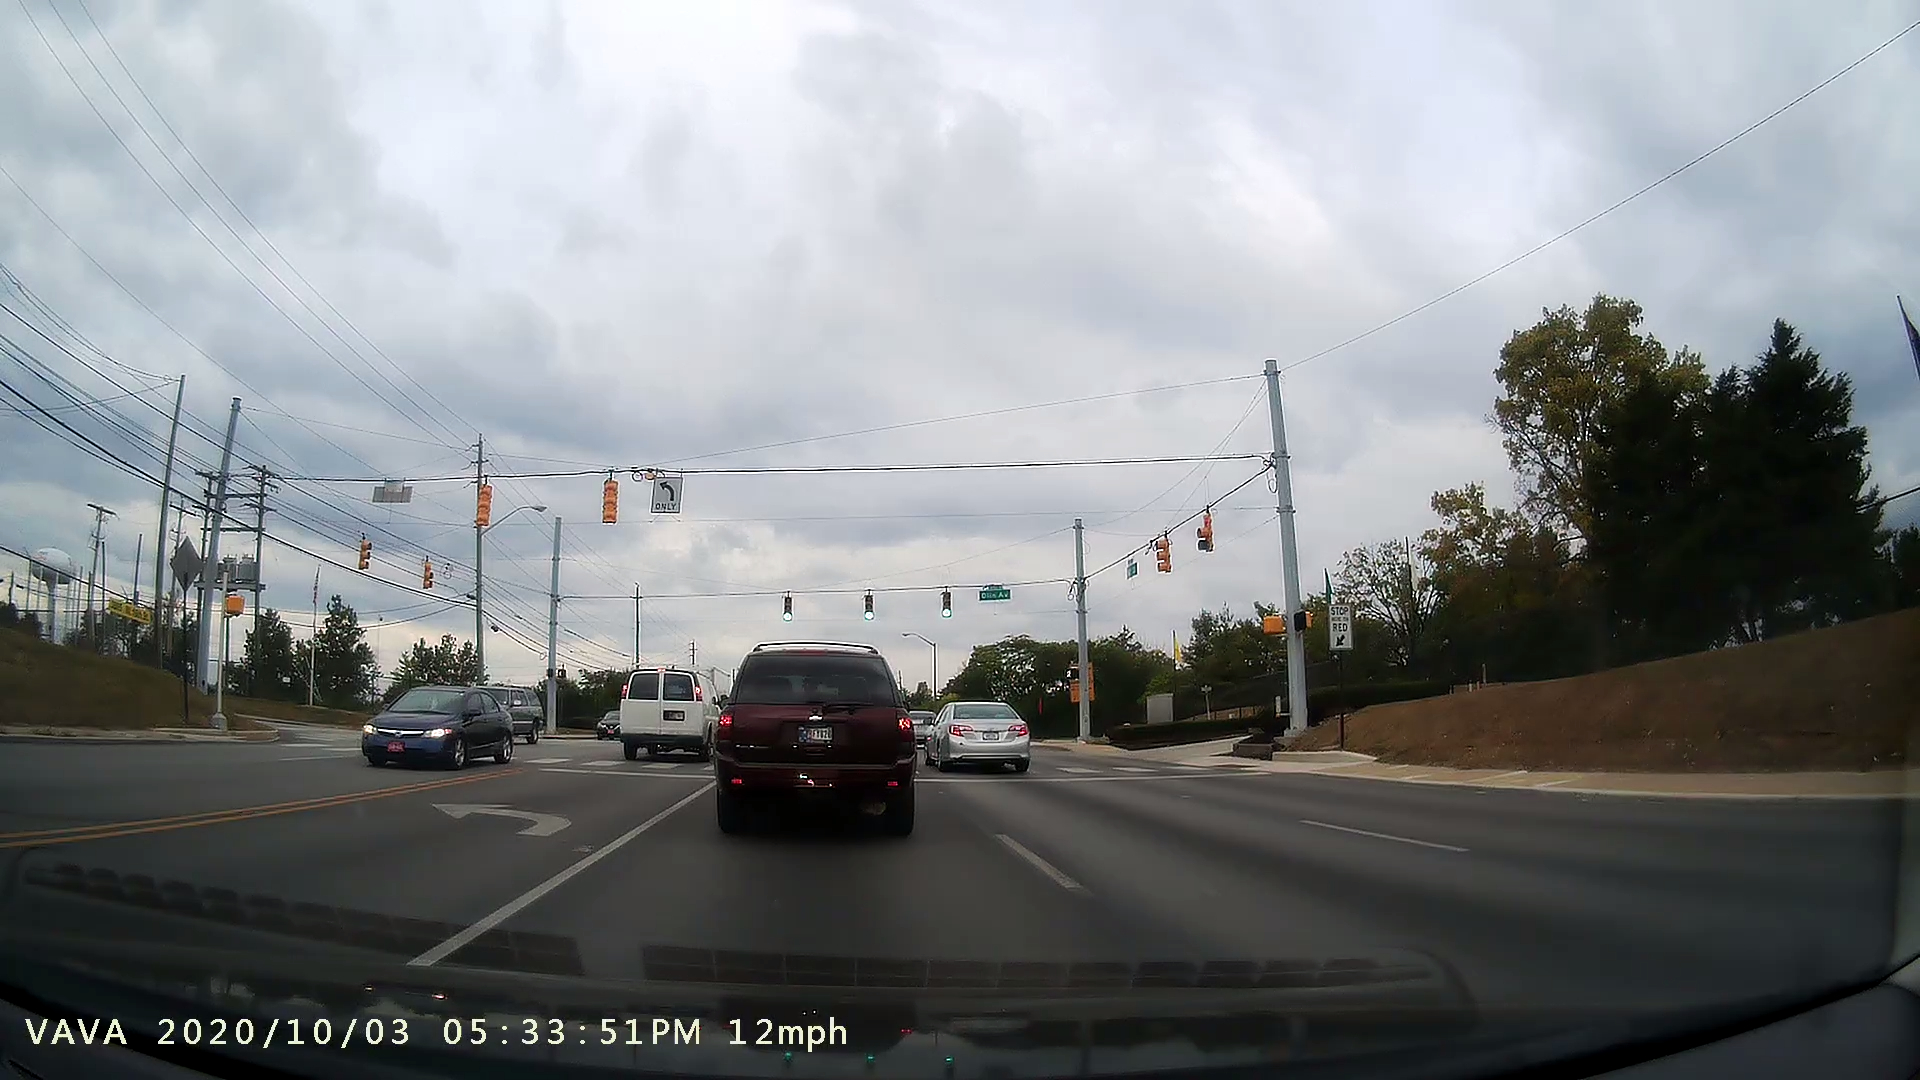left_turn: (419, 775, 578, 844)
